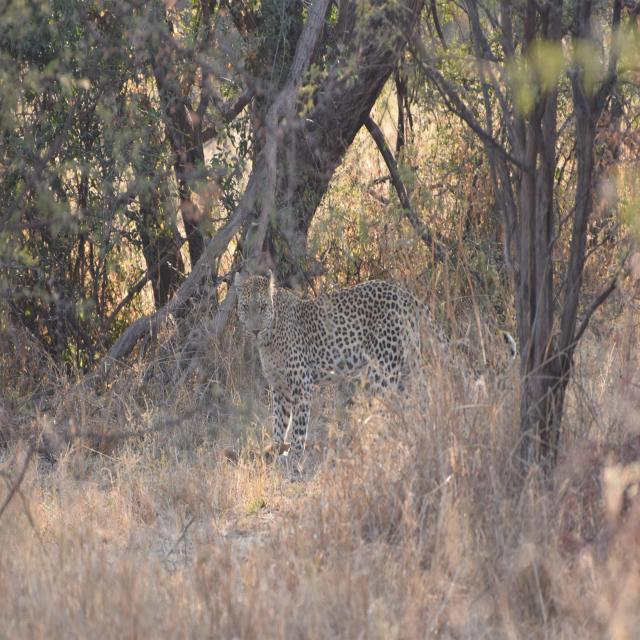Leopard: (239, 271, 470, 458)
